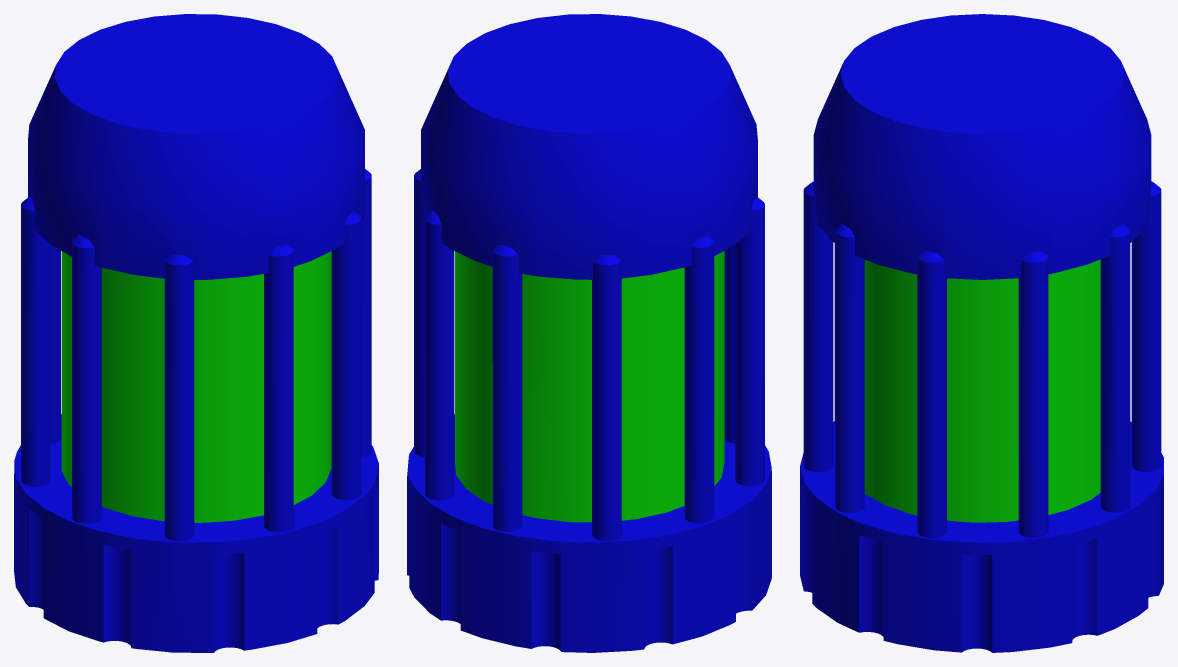
The model's file is Bio_Ammo02.fbx.
3 renders of one model, left to right at view 1: azimuth 30°, elevation 25°; view 2: azimuth 150°, elevation 25°; view 3: azimuth 270°, elevation 25°, orthographic.
Parts seen in each view (by area): view 1: Bio_Rifle_Ammo02; view 2: Bio_Rifle_Ammo02; view 3: Bio_Rifle_Ammo02.
Part boxes in pixels (<box>): Bio_Rifle_Ammo02: <box>14,14,378,652</box>; Bio_Rifle_Ammo02: <box>407,14,771,652</box>; Bio_Rifle_Ammo02: <box>800,14,1163,652</box>.
Bounding box in the file's own units: 26.98 × 42 × 26.92.
